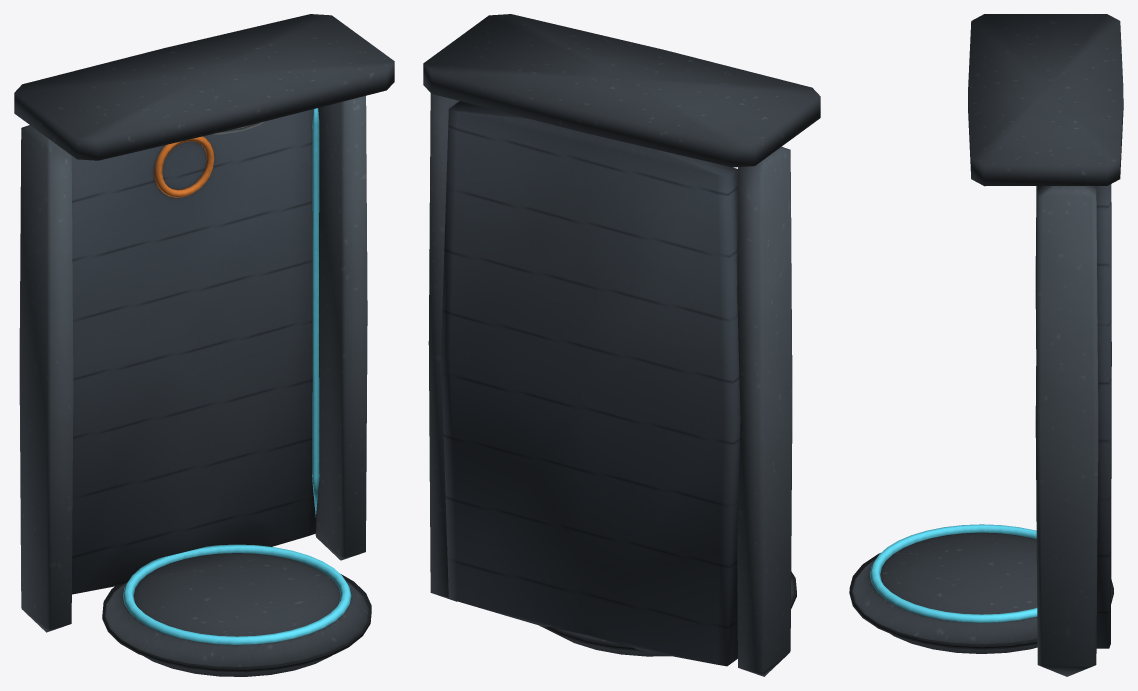
File: Vitrina_Traje.fbx
3 views of the same model, side by side, from view 1: azimuth 30°, elevation 25°; view 2: azimuth 150°, elevation 25°; view 3: azimuth 270°, elevation 25° (orthographic). The views are drawn at different scales.
Visible parts, largest first — view 1: Malla; view 2: Malla; view 3: Malla.
Boxes of the visible parts, box(x1,y1,x2,y2) form: Malla: box(14, 14, 394, 676); Malla: box(423, 14, 820, 676); Malla: box(849, 14, 1123, 676).
Size of the model in its own units: 1.7 by 2.68 by 1.28.
Materials: 1 (1 with a texture image).
